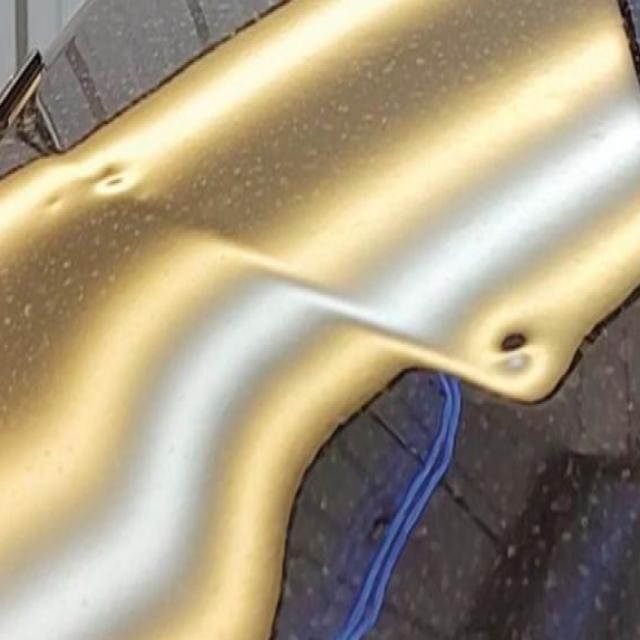dents: (80, 156, 146, 231), (36, 184, 78, 262)
